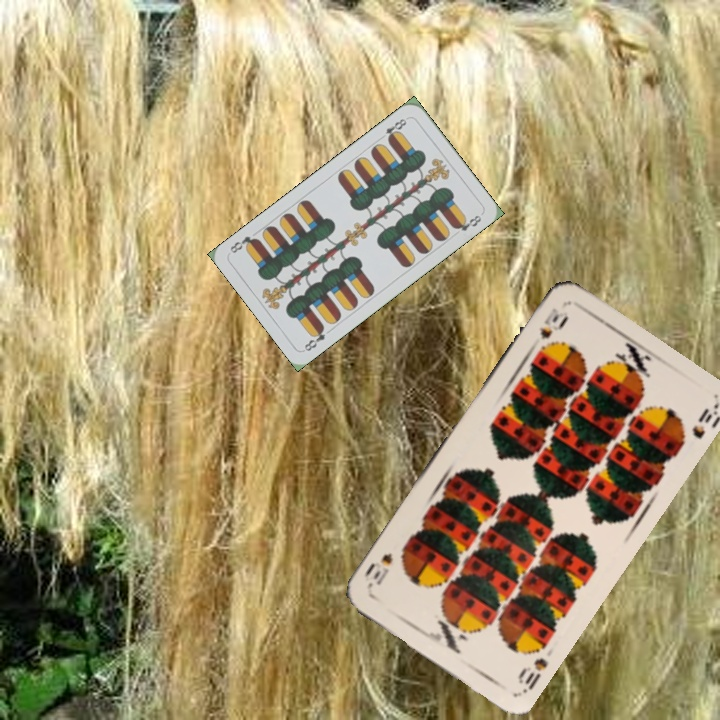E8: (376, 114, 411, 144), (300, 322, 328, 354)
S10: (513, 653, 551, 696), (534, 303, 562, 343)
